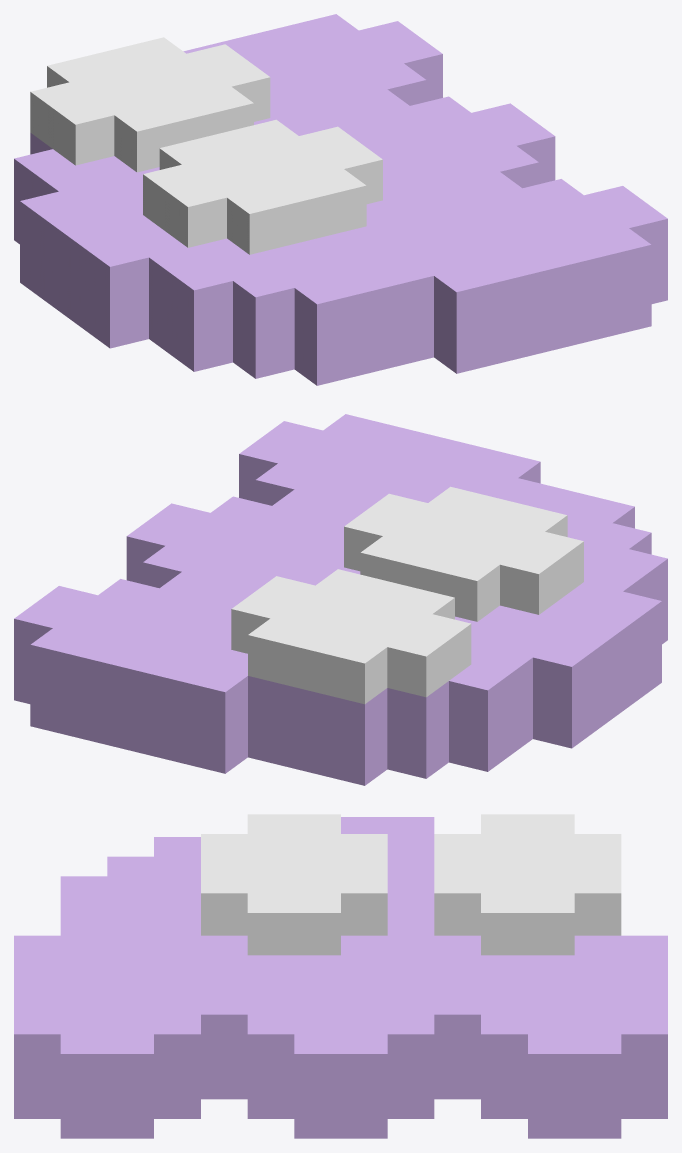
The model's file is ghost.gltf.
The picture shows the model from 3 angles, top to bottom: view 1: azimuth 30°, elevation 25°; view 2: azimuth 150°, elevation 25°; view 3: azimuth 270°, elevation 25°; orthographic projection. The views are drawn at different scales.
Visible parts, largest first — view 1: Body, Eyes, Pupils; view 2: Body, Eyes, Pupils; view 3: Body, Eyes, Pupils.
Part boxes in pixels (x1,y1,x2,y2): Body: (14,14,667,385); Eyes: (30,44,382,254); Pupils: (86,37,320,171); Body: (14,414,667,785); Eyes: (231,486,583,704); Pupils: (248,519,482,694); Body: (14,817,667,1138); Eyes: (201,814,621,955); Pupils: (294,853,621,935).
Bounding box in the file's own units: 12 × 3 × 14.
Materials: 3 (3 with a texture image).
